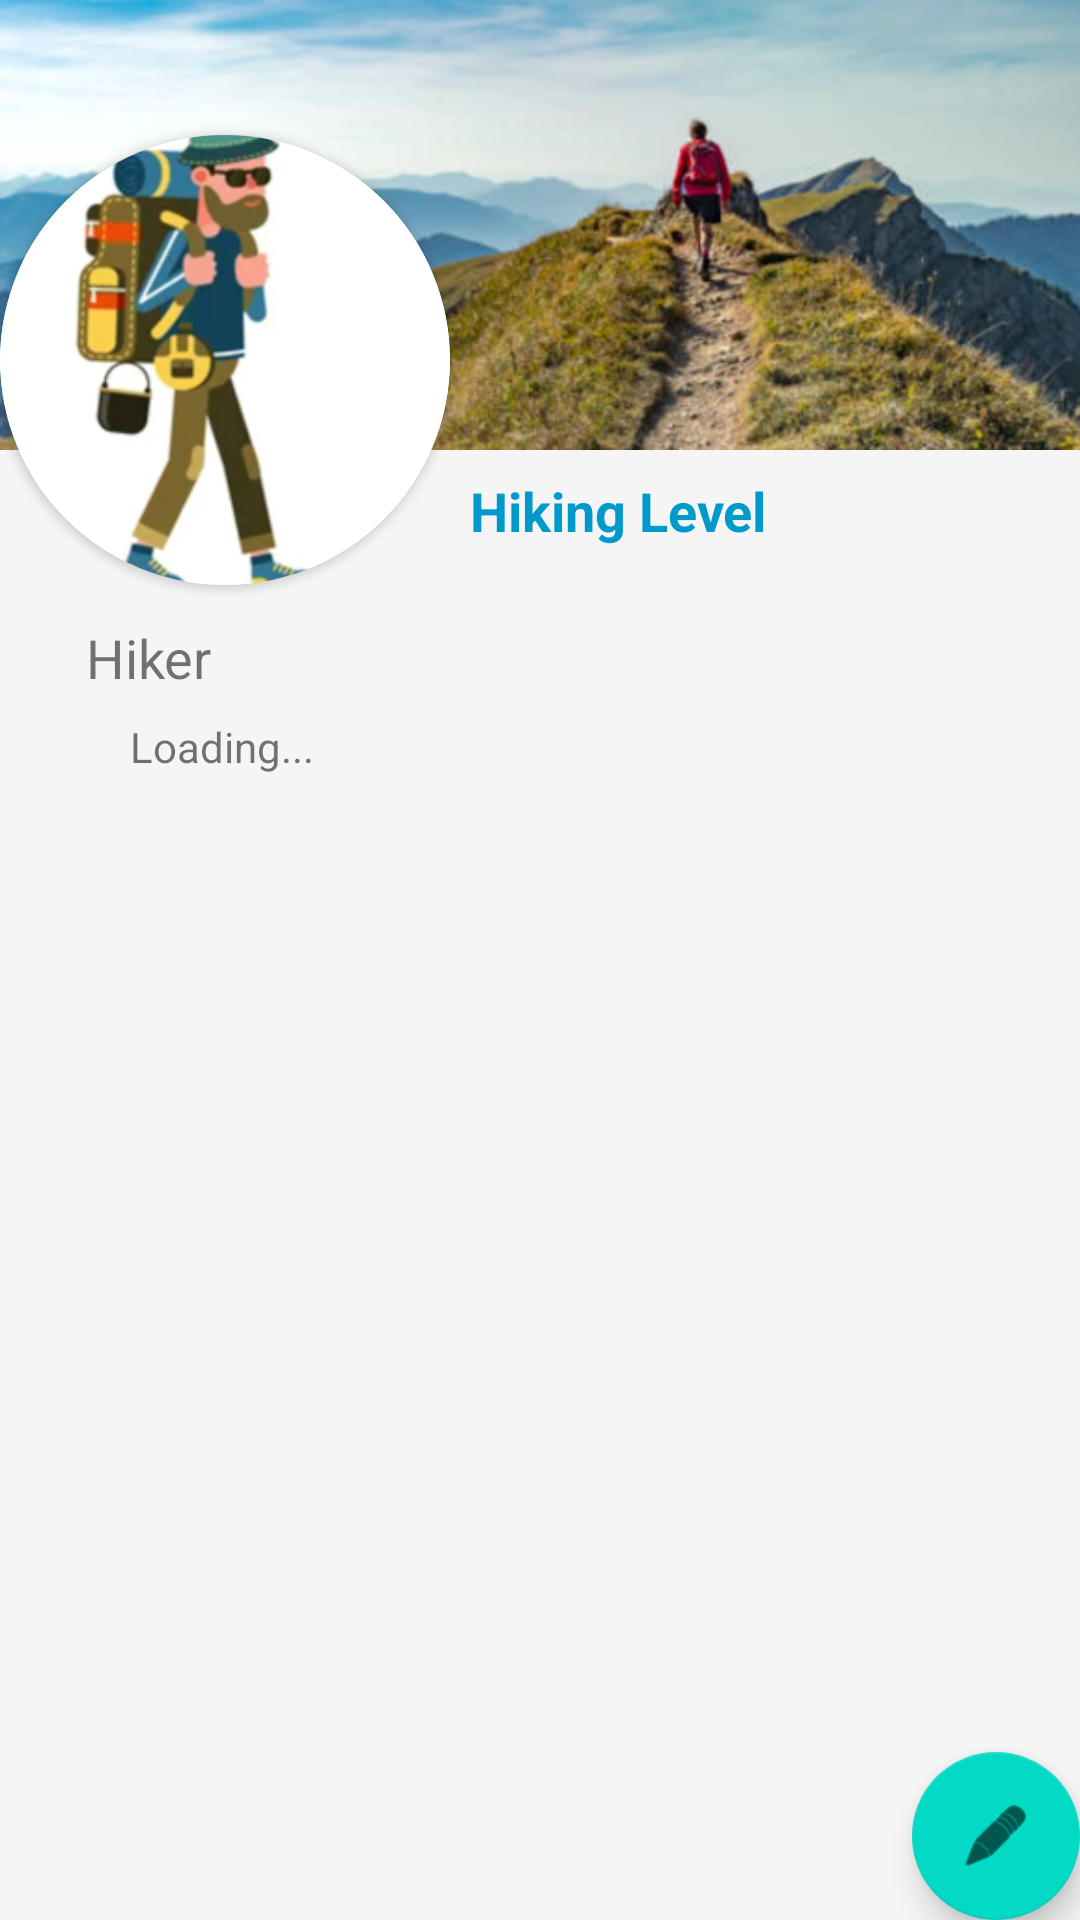

Icons on this 1080w x 1920h Android screen, each with its box as {"left": x1, "top": y1, "right": x2, "bottom": y2}:
edit: {"left": 912, "top": 1752, "right": 1080, "bottom": 1920}
